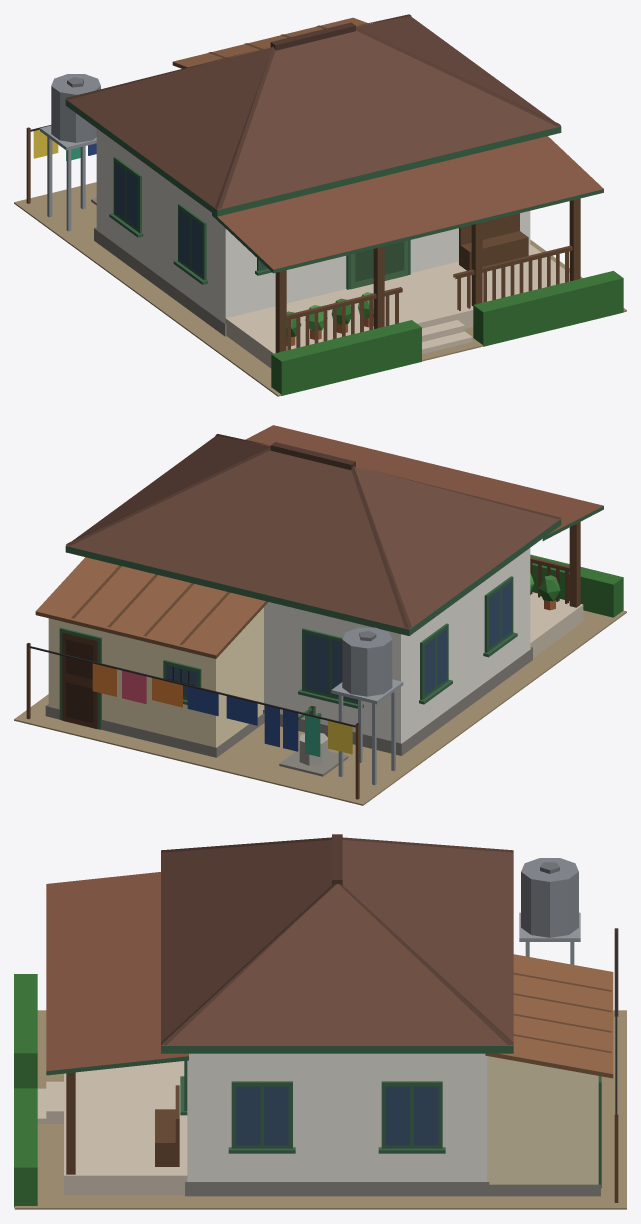
The model's file is rumah_05.glb.
The picture shows the model from 3 angles, top to bottom: view 1: azimuth 30°, elevation 25°; view 2: azimuth 150°, elevation 25°; view 3: azimuth 270°, elevation 25°; orthographic projection. The views are drawn at different scales.
Parts seen in each view (by area): view 1: rumah_05; view 2: rumah_05; view 3: rumah_05.
Boxes of the visible parts, x1,y1,x2,y2 form: rumah_05: (14, 14, 626, 396); rumah_05: (14, 425, 626, 805); rumah_05: (14, 834, 626, 1209).
Size of the model in its own units: 7.96 by 4.76 by 10.43.
